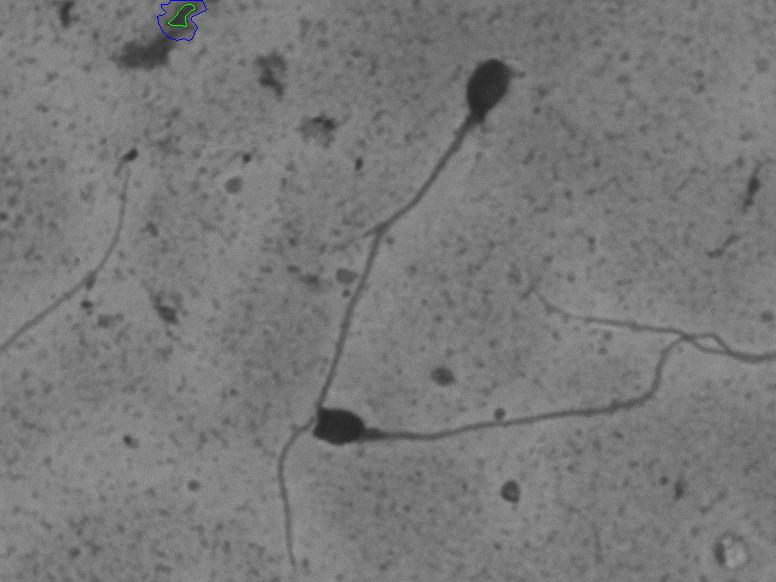Abnormal: (310, 350, 757, 487)
Normal: (248, 48, 516, 567)
